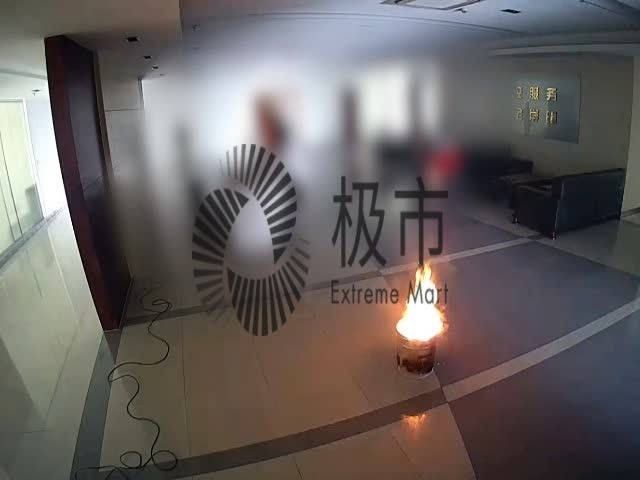fire: (395, 258, 449, 342)
